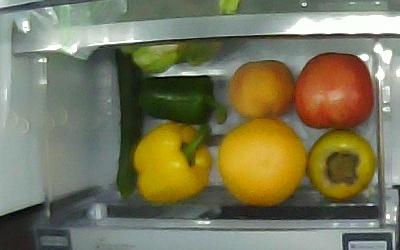apple: (294, 53, 373, 130)
cucumber: (113, 49, 142, 201)
grapefruit: (219, 119, 307, 207)
lettuce: (121, 39, 225, 74)
paprika: (132, 122, 217, 205), (139, 75, 226, 124)
peach: (228, 60, 294, 121)
persimmon: (307, 129, 376, 200)
